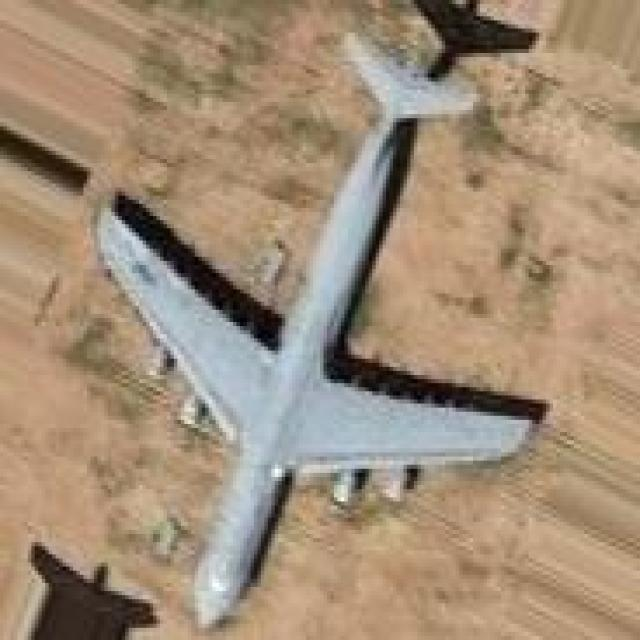C-5_TopDown: (91, 0, 550, 633)
